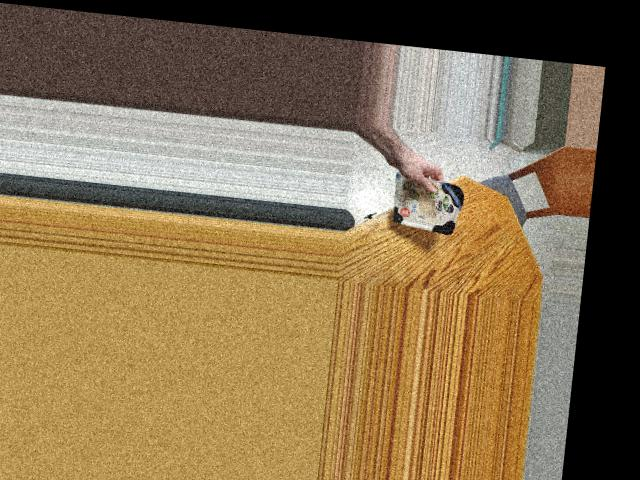cheese: (382, 171, 468, 230)
